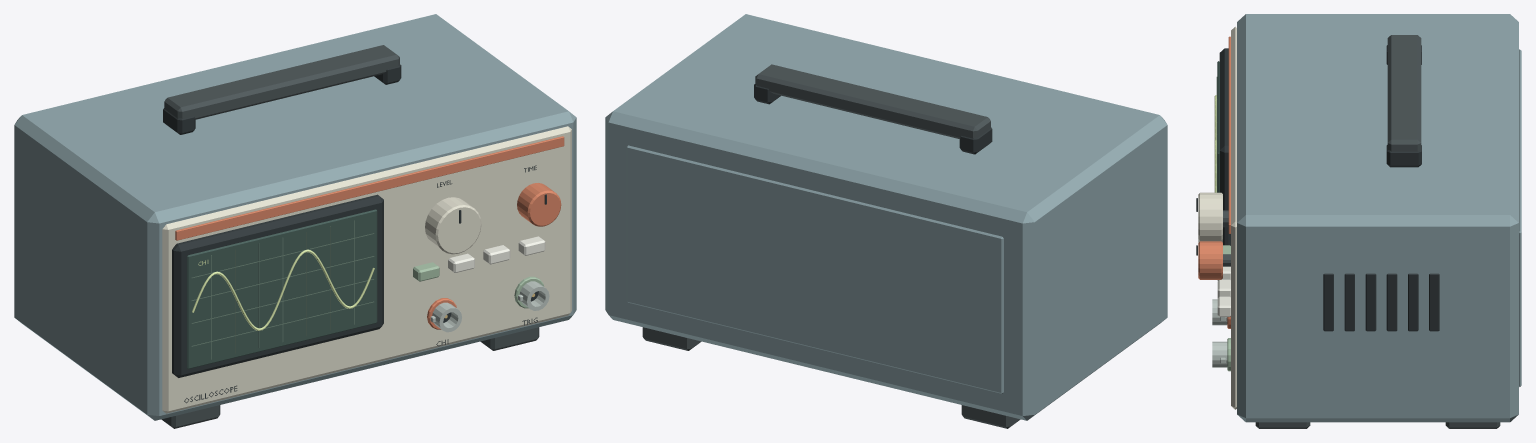
Rendered from asset.glb.
3 renders of one model, left to right at view 1: azimuth 30°, elevation 25°; view 2: azimuth 150°, elevation 25°; view 3: azimuth 270°, elevation 25°, orthographic.
Visible parts, largest first — view 1: oscilloscope.body, oscilloscope.panel_front, oscilloscope.screen, oscilloscope.screen_bezel, oscilloscope.handle, oscilloscope.top_strip, oscilloscope.knob, oscilloscope.knob_time, oscilloscope.trace, oscilloscope.foot_1_-1, oscilloscope.foot_-1_-1, oscilloscope.port_ch1 (+1 smaller); view 2: oscilloscope.body, oscilloscope.rear_panel, oscilloscope.handle, oscilloscope.foot_1_1, oscilloscope.foot_-1_1, oscilloscope.handle_post_-1; view 3: oscilloscope.body, oscilloscope.handle, oscilloscope.panel_front, oscilloscope.screen_bezel, oscilloscope.knob, oscilloscope.rear_panel, oscilloscope.knob_time, oscilloscope.vent_3, oscilloscope.vent_2, oscilloscope.vent_0, oscilloscope.vent_1, oscilloscope.vent_4 (+7 smaller).
Boxes of the visible parts, x1,y1,x2,y2 form: oscilloscope.body: (14, 14, 576, 420); oscilloscope.panel_front: (162, 126, 571, 413); oscilloscope.screen: (187, 209, 377, 368); oscilloscope.screen_bezel: (172, 194, 383, 377); oscilloscope.handle: (164, 45, 399, 119); oscilloscope.top_strip: (175, 136, 564, 240); oscilloscope.knob: (425, 197, 481, 254); oscilloscope.knob_time: (517, 183, 561, 226); oscilloscope.trace: (192, 249, 374, 330); oscilloscope.foot_1_-1: (480, 327, 539, 350); oscilloscope.foot_-1_-1: (161, 405, 220, 428); oscilloscope.port_ch1: (432, 302, 461, 332); oscilloscope.body: (605, 14, 1167, 420); oscilloscope.rear_panel: (626, 145, 1003, 393); oscilloscope.handle: (755, 64, 990, 138); oscilloscope.foot_1_1: (642, 327, 701, 350); oscilloscope.foot_-1_1: (961, 405, 1020, 428); oscilloscope.handle_post_-1: (959, 127, 992, 154); oscilloscope.body: (1237, 14, 1518, 422); oscilloscope.handle: (1387, 35, 1421, 151); oscilloscope.panel_front: (1231, 26, 1236, 409); oscilloscope.screen_bezel: (1219, 48, 1230, 245); oscilloscope.knob: (1198, 192, 1222, 242); oscilloscope.rear_panel: (1519, 49, 1521, 386); oscilloscope.knob_time: (1198, 241, 1222, 279); oscilloscope.vent_3: (1365, 273, 1376, 331); oscilloscope.vent_2: (1386, 273, 1397, 331); oscilloscope.vent_0: (1429, 273, 1439, 331); oscilloscope.vent_1: (1408, 273, 1418, 331); oscilloscope.vent_4: (1344, 273, 1354, 331).
Bounding box in the file's own units: 0.2815 × 0.159 × 0.1846.
